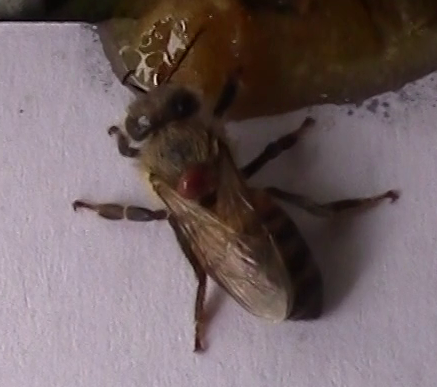Varroa destructor: (172, 158, 217, 203)
